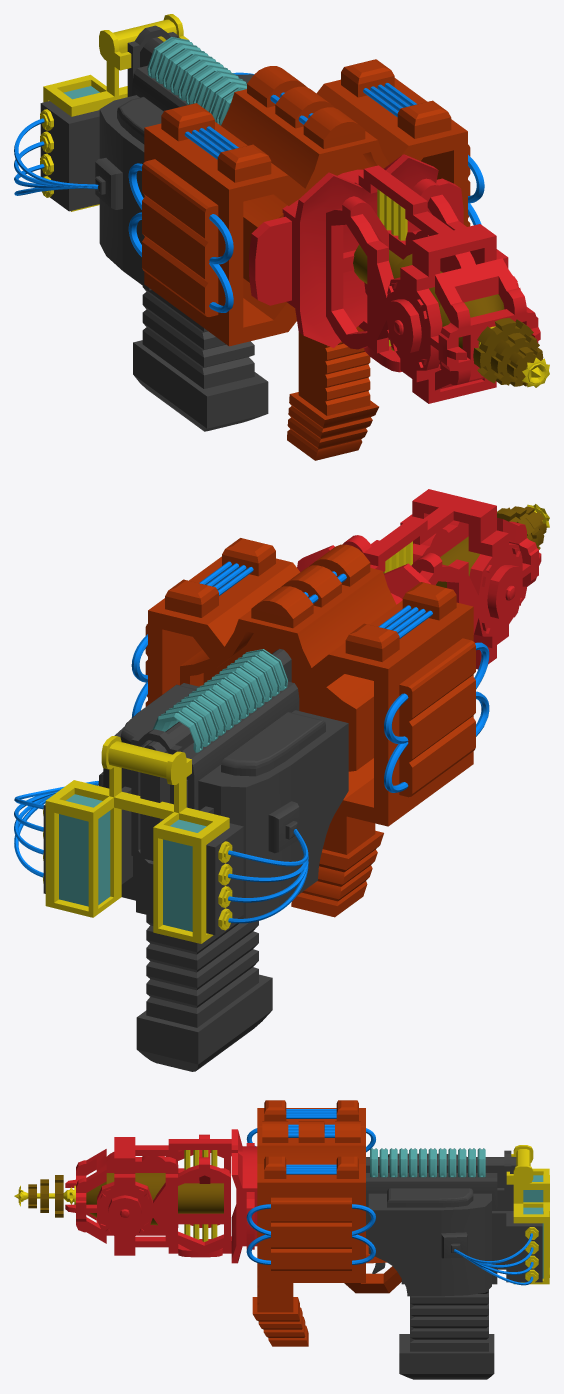
Rendered from raygun.fbx.
3 renders of one model, top to bottom at view 1: azimuth 30°, elevation 25°; view 2: azimuth 150°, elevation 25°; view 3: azimuth 270°, elevation 25°, orthographic. The views are drawn at different scales.
Parts seen in each view (by area): view 1: Cube.166, Cube.165, Cube.088, Torus.012, Cube.167, Cylinder.098, Cylinder.094, NurbsPath.073, Cylinder.095, NurbsPath.076, Cylinder.100, NurbsPath.079 (+6 smaller); view 2: Cube.166, Cube.088, Cube.165, Cube.167, Torus.012, Cube.169, Cube.168, NurbsPath.073, NurbsPath.074, NurbsPath.075, Cube.171, NurbsPath.079 (+2 smaller); view 3: Cube.088, Cube.166, Cube.165, Torus.012, Cube.167, Cylinder.098, NurbsPath.074, NurbsPath.078, NurbsPath.077, NurbsPath.079, Cube.172, NurbsPath.080 (+4 smaller).
Boxes of the visible parts, left/top/right/bottom form: Cube.166: left=142, top=59, right=470, bottom=460; Cube.165: left=249, top=154, right=540, bottom=403; Cube.088: left=40, top=25, right=268, bottom=431; Torus.012: left=147, top=37, right=246, bottom=125; Cube.167: left=43, top=14, right=188, bottom=211; Cylinder.098: left=353, top=244, right=504, bottom=348; Cylinder.094: left=473, top=318, right=537, bottom=384; NurbsPath.073: left=14, top=118, right=98, bottom=195; Cylinder.095: left=490, top=332, right=542, bottom=386; NurbsPath.076: left=209, top=214, right=233, bottom=312; Cylinder.100: left=377, top=189, right=407, bottom=240; NurbsPath.079: left=363, top=83, right=416, bottom=117; Cube.166: left=145, top=538, right=475, bottom=917; Cube.088: left=43, top=649, right=348, bottom=1071; Cube.165: left=297, top=489, right=541, bottom=669; Cube.167: left=45, top=736, right=229, bottom=943; Torus.012: left=152, top=649, right=287, bottom=752; Cube.169: left=59, top=794, right=110, bottom=906; Cube.168: left=163, top=819, right=206, bottom=931; NurbsPath.073: left=228, top=829, right=308, bottom=923; NurbsPath.074: left=14, top=781, right=98, bottom=877; NurbsPath.075: left=384, top=693, right=408, bottom=792; Cube.171: left=218, top=841, right=232, bottom=930; NurbsPath.079: left=199, top=561, right=253, bottom=595; Cube.088: left=366, top=1150, right=542, bottom=1379; Cube.166: left=252, top=1100, right=401, bottom=1346; Cube.165: left=65, top=1129, right=257, bottom=1263; Torus.012: left=370, top=1148, right=485, bottom=1177; Cube.167: left=506, top=1145, right=549, bottom=1284; Cylinder.098: left=86, top=1173, right=223, bottom=1225; NurbsPath.074: left=454, top=1233, right=533, bottom=1285; NurbsPath.078: left=246, top=1204, right=270, bottom=1264; NurbsPath.077: left=352, top=1204, right=375, bottom=1264; NurbsPath.079: left=286, top=1164, right=336, bottom=1174; Cube.172: left=525, top=1227, right=538, bottom=1282; NurbsPath.080: left=286, top=1109, right=336, bottom=1118.
Size of the model in its own units: 396 by 532 by 1030.
